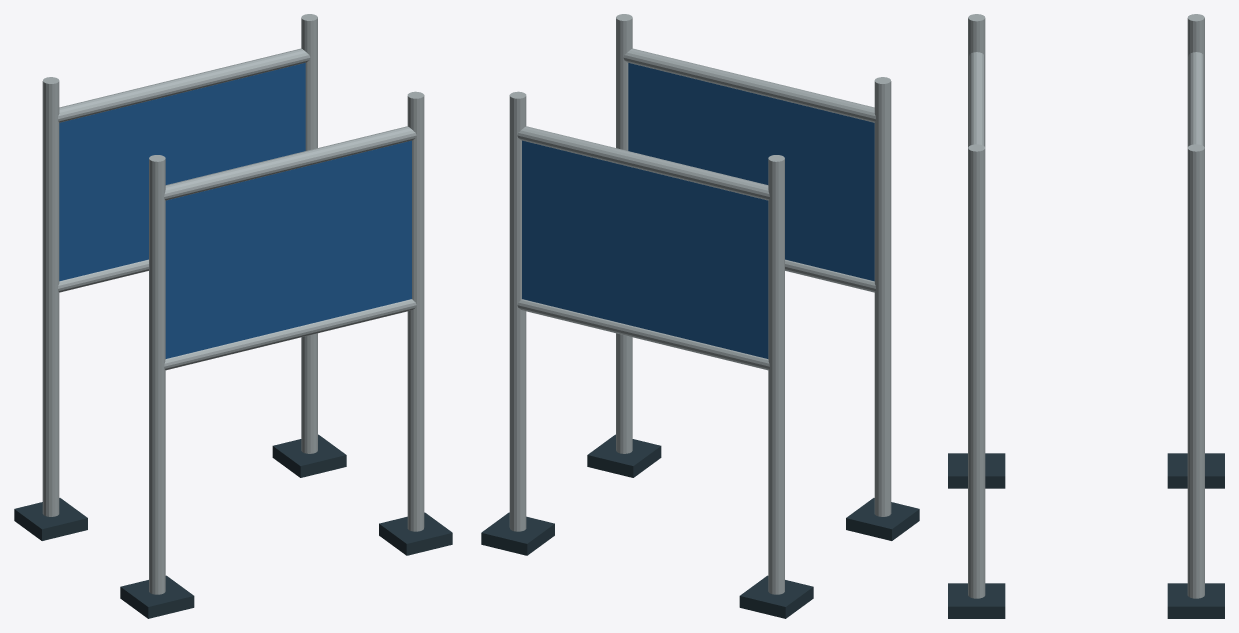
The model's file is scendance-plan-signage-frame-2.glb.
The picture shows the model from 3 angles, left to right: view 1: azimuth 30°, elevation 25°; view 2: azimuth 150°, elevation 25°; view 3: azimuth 270°, elevation 25°; orthographic projection. The views are drawn at different scales.
Size of the model in its own units: 1.39 by 1.94 by 1.06.
